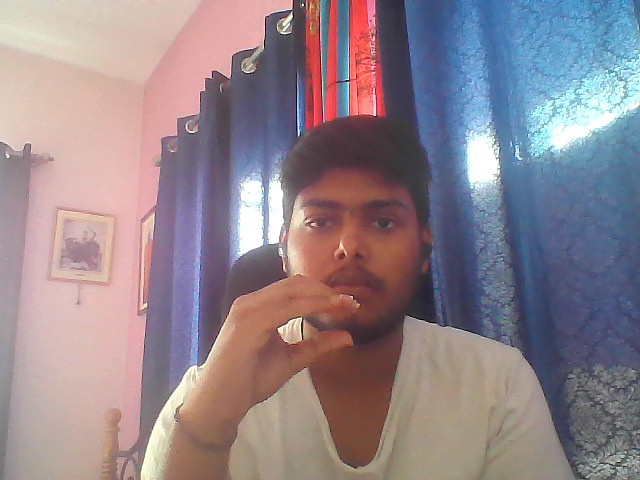No: (211, 275, 374, 417)
